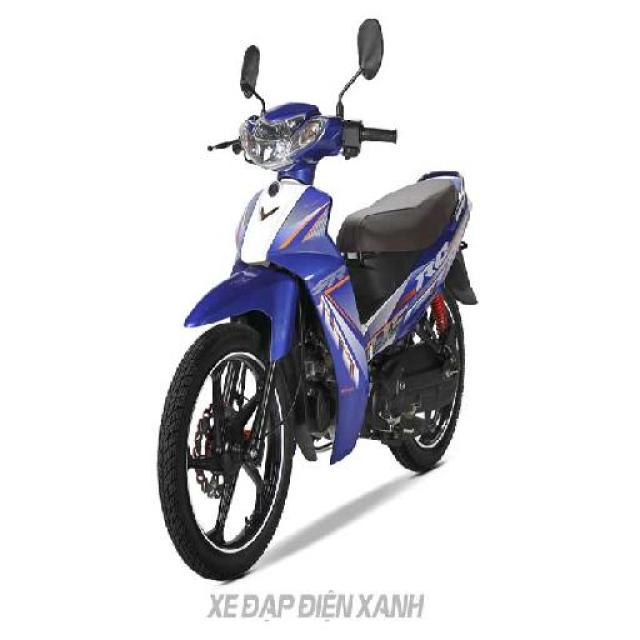All: (152, 28, 479, 580)
Head: (207, 98, 400, 177)
Tail: (409, 163, 471, 223)
